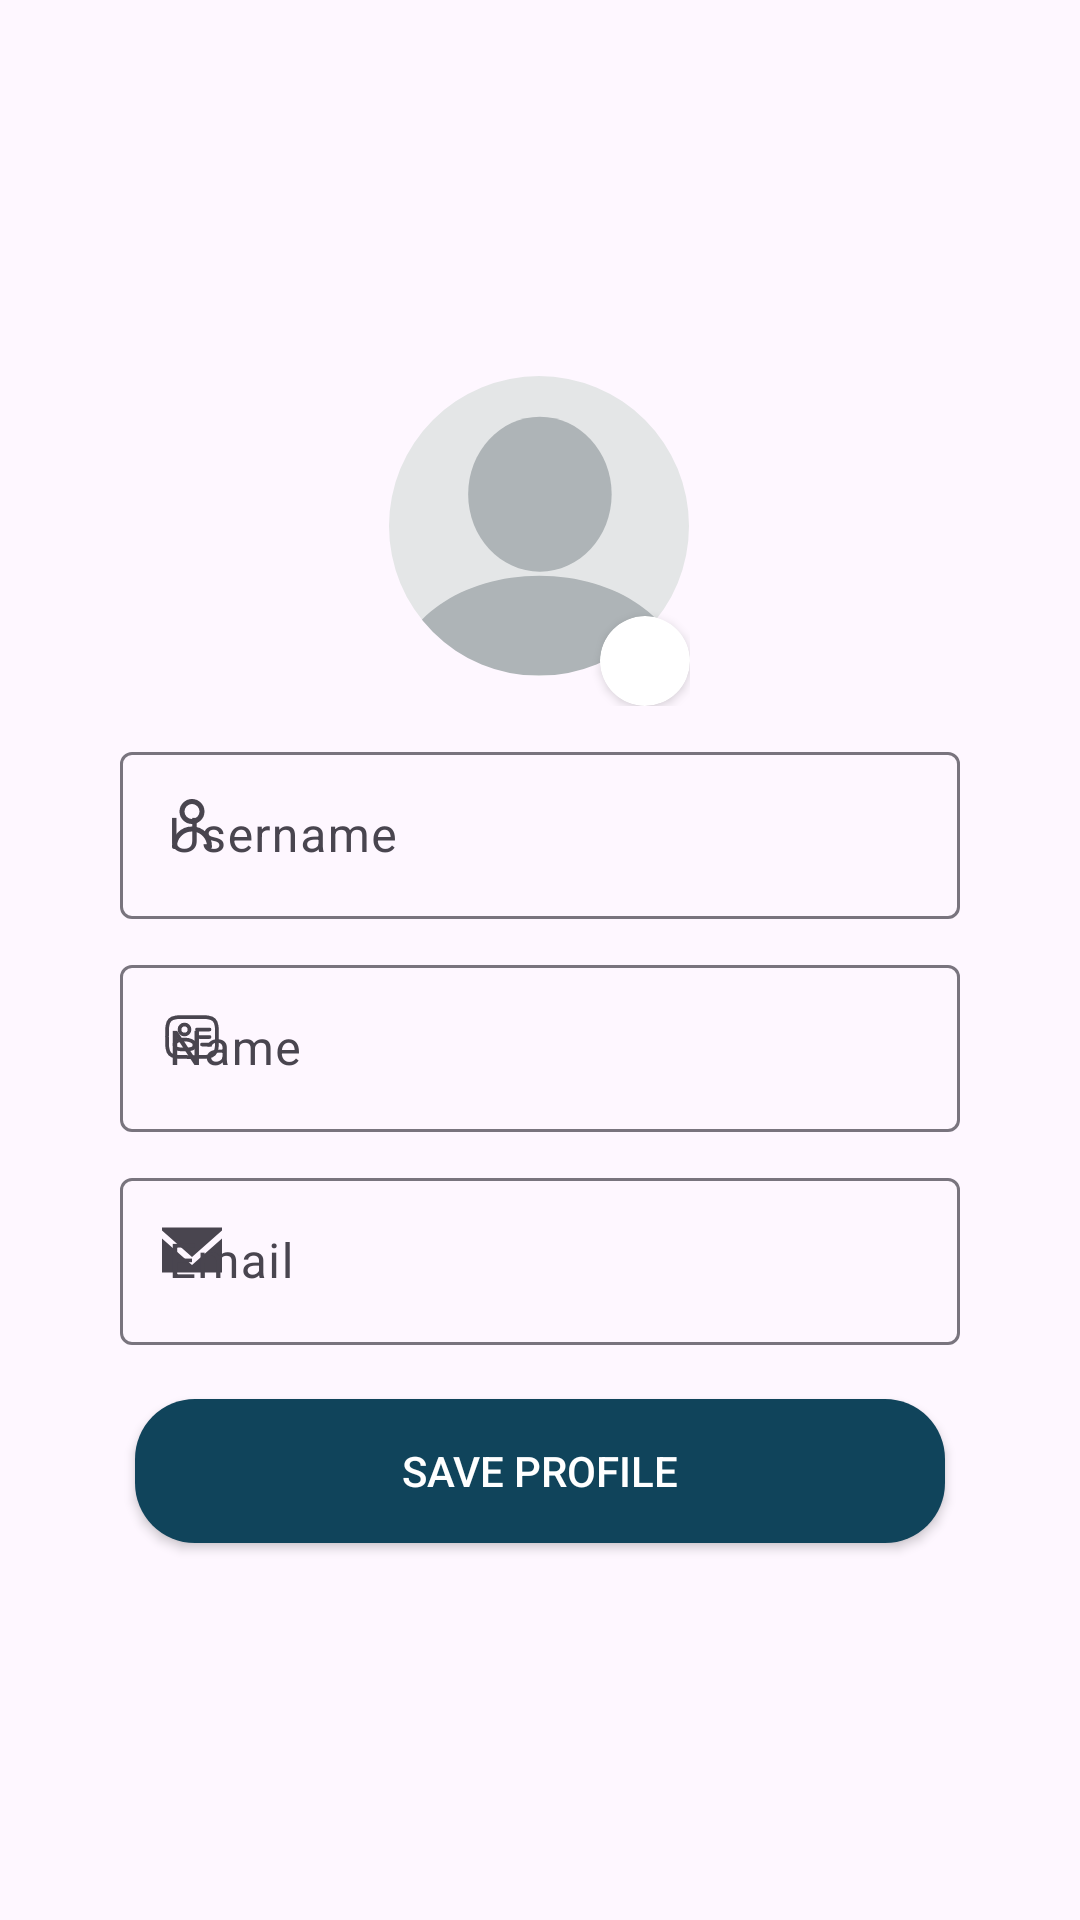

Icons on this 1080*1920 Android screen, each with the point to tap as (x,y):
blank picture: (539,526)
